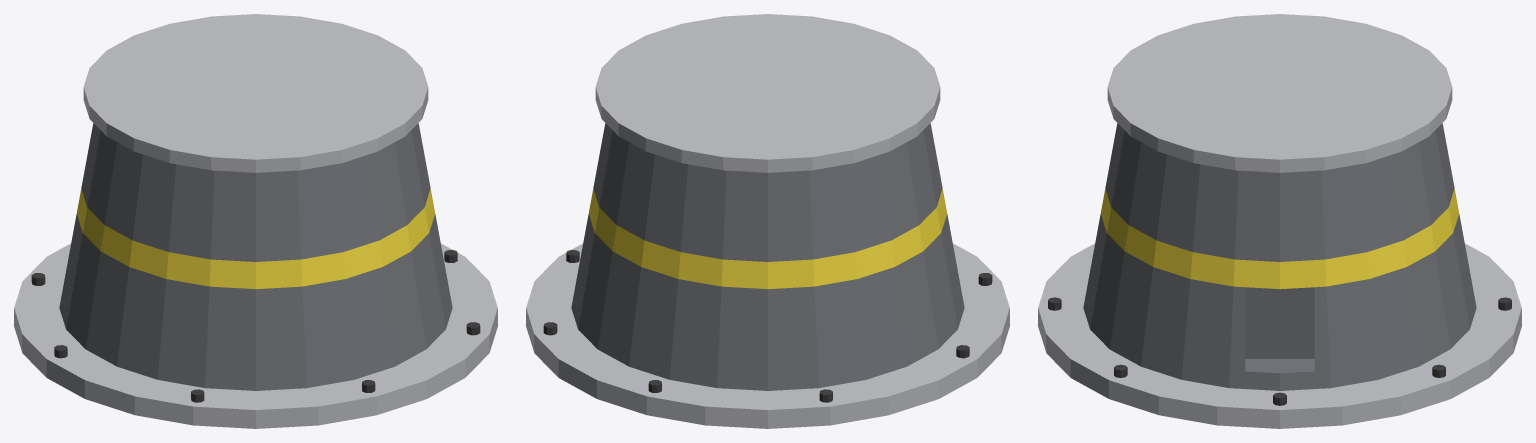
File: steel skirt.fbx
3 views of the same model, side by side, from view 1: azimuth 30°, elevation 25°; view 2: azimuth 150°, elevation 25°; view 3: azimuth 270°, elevation 25° (orthographic).
Parts seen in each view (by area): view 1: CO2Tank_Skirt_Support; view 2: CO2Tank_Skirt_Support; view 3: CO2Tank_Skirt_Support.
Boxes of the visible parts, x1,y1,x2,y2 form: CO2Tank_Skirt_Support: (14, 14, 497, 428); CO2Tank_Skirt_Support: (526, 14, 1009, 428); CO2Tank_Skirt_Support: (1038, 14, 1521, 428).
Bounding box in the file's own units: 348 × 190 × 348.
